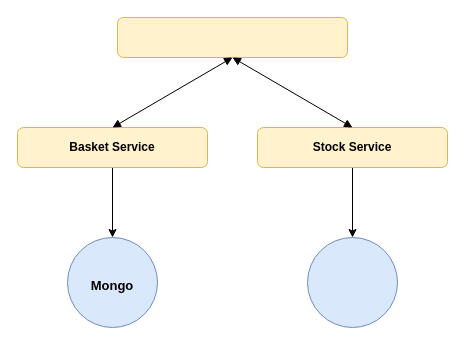
Some shapes in this 465 by 345 pixel diagram are drawn without their labels. The centre of each missing label's shape, as x and y in pixels:
Gateway: the point at 232,37
Redis: the point at 352,282
